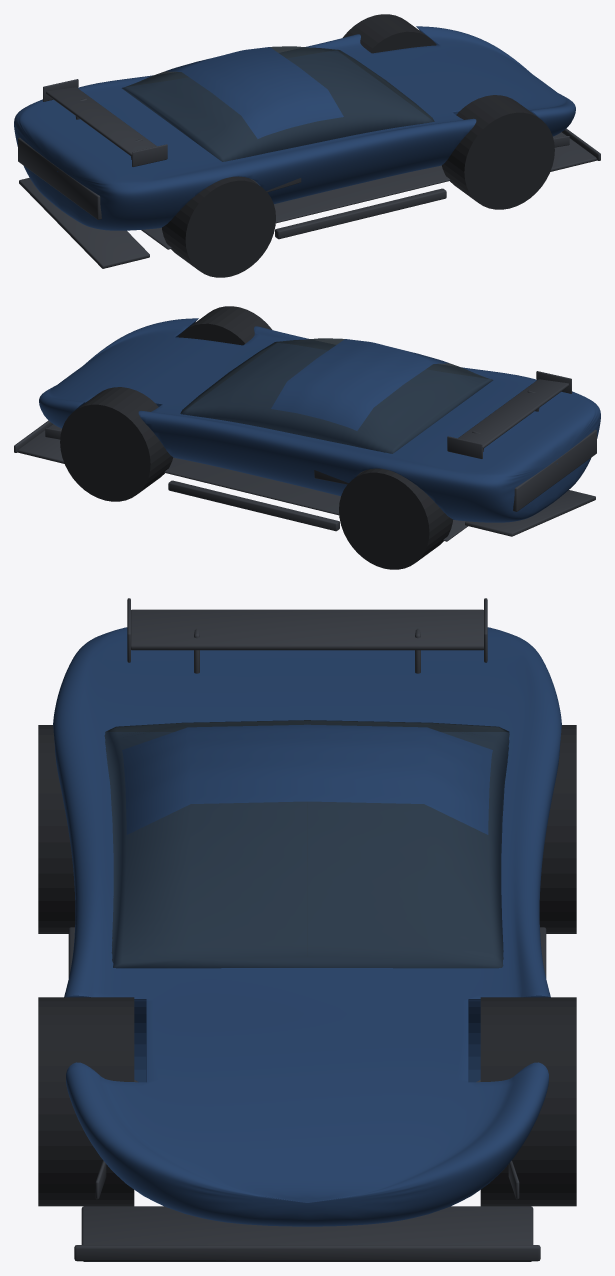
File: car-body-rival.glb
3 views of the same model, one above another, from view 1: azimuth 30°, elevation 25°; view 2: azimuth 150°, elevation 25°; view 3: azimuth 270°, elevation 25° (orthographic). The views are drawn at different scales.
Visible parts, largest first — view 1: body, greenhouse, well, well.001, floor, diffuser, wing-plane, well.002, tail-panel, skirt, splitter, wing-plate; view 2: body, greenhouse, well.002, well.003, floor, wing-plane, well, tail-panel, skirt.001, diffuser, splitter, wing-plate.001; view 3: body, greenhouse, well, well.002, wing-plane, splitter, splitter-lip, well.001, well.003.
Part boxes in pixels (<box>): body: <box>14,26,575,230</box>; greenhouse: <box>121,46,434,161</box>; well: <box>442,95,554,209</box>; well.001: <box>162,176,275,277</box>; floor: <box>141,165,450,249</box>; diffuser: <box>19,177,149,268</box>; wing-plane: <box>46,87,156,156</box>; well.002: <box>342,14,436,53</box>; tail-panel: <box>18,137,101,219</box>; skirt: <box>275,188,446,239</box>; splitter: <box>550,132,597,171</box>; wing-plate: <box>132,144,167,166</box>; body: <box>39,318,600,522</box>; greenhouse: <box>180,338,493,453</box>; well.002: <box>60,387,172,501</box>; well.003: <box>339,468,452,569</box>; floor: <box>164,457,467,541</box>; wing-plane: <box>458,379,568,448</box>; well: <box>178,306,272,345</box>; tail-panel: <box>513,429,596,511</box>; skirt.001: <box>168,480,339,531</box>; diffuser: <box>465,490,595,536</box>; splitter: <box>17,424,64,463</box>; wing-plate.001: <box>447,436,482,458</box>; body: <box>53,627,561,1226</box>; greenhouse: <box>104,720,509,968</box>; well: <box>38,997,134,1206</box>; well.002: <box>480,997,576,1206</box>; wing-plane: <box>131,609,483,650</box>; splitter: <box>81,1206,533,1261</box>; splitter-lip: <box>74,1245,540,1261</box>; well.001: <box>38,725,75,933</box>; well.003: <box>539,725,576,933</box>.
Bounding box in the file's own units: 4.7 × 1.2 × 2.24.
